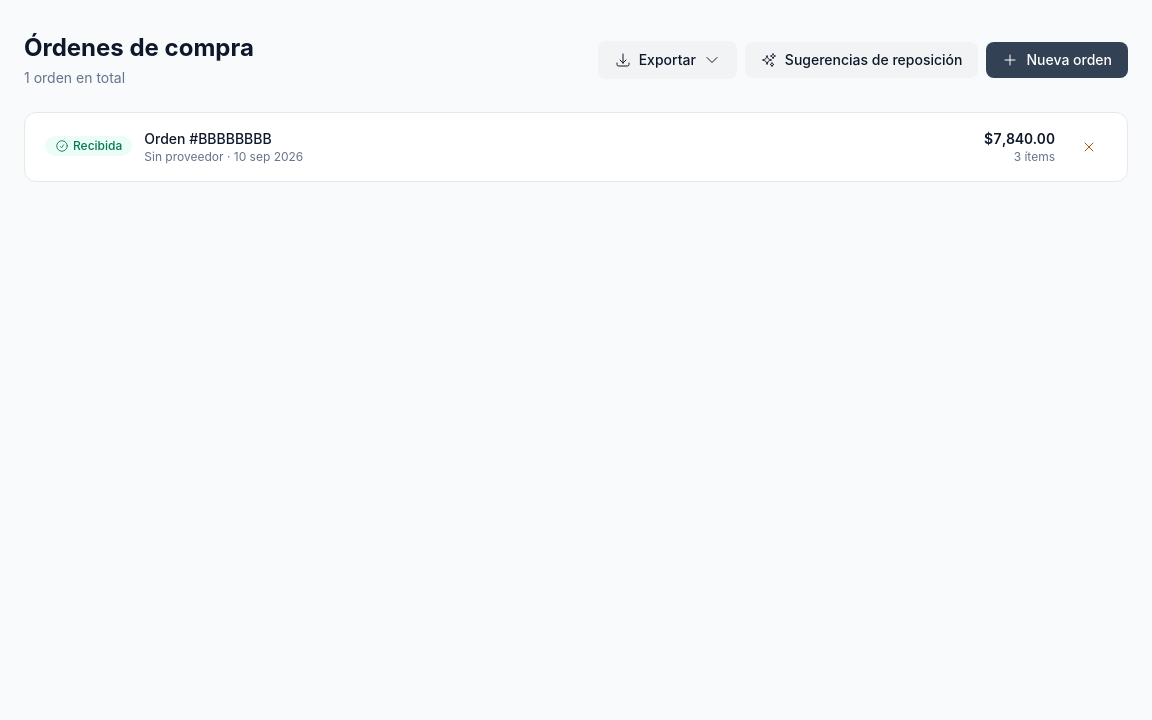
PurchaseOrdersPage — cancelar una orden ya recibida (T5-01) › no cancela al primer clic: abre un diálogo con las unidades que saldrán
The width and height of the screenshot is (1152, 720).
Click the button named "Cancelar la orden recibida #BBBBBBBB" at (1089, 147), box [1071,129,1107,165]
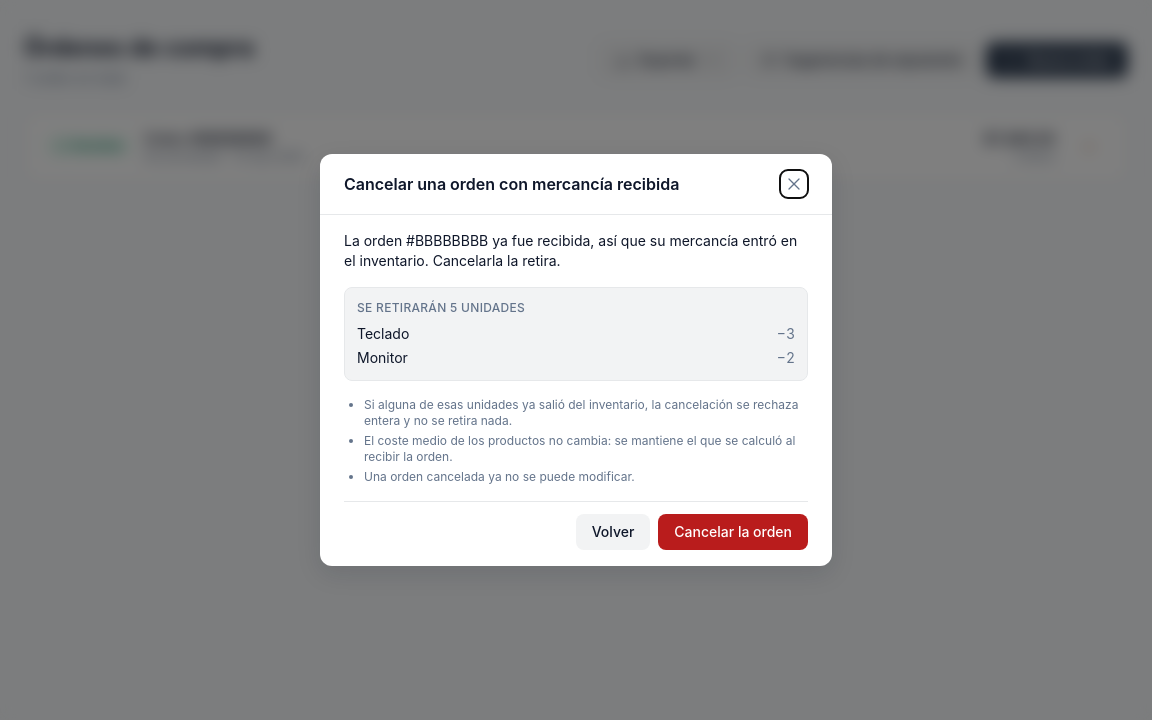
Expected: the text "ya fue recibida" shows "La orden #BBBBBBBB ya fue recibida", [344,232,797,269]
Expected: the text "Se retirarán 5 unidades" is shown, [357,300,525,315]
Expected: the text "Teclado" is shown, [357,324,409,344]
